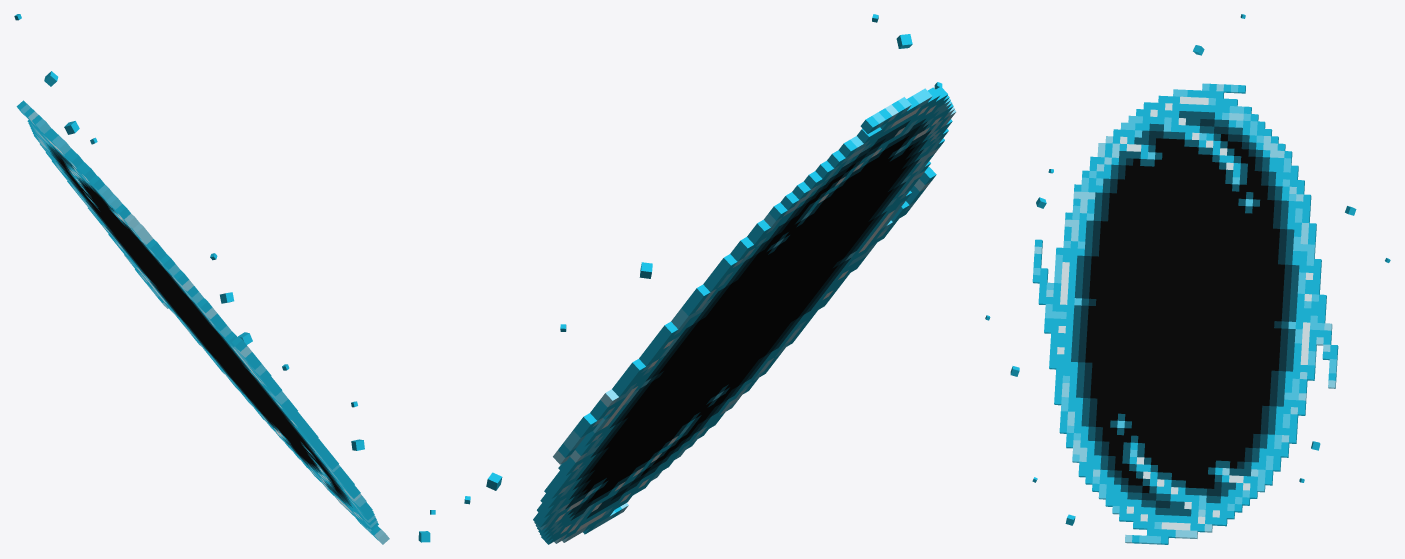
File: portal.fbx
The picture shows the model from 3 angles, left to right: view 1: azimuth 30°, elevation 25°; view 2: azimuth 150°, elevation 25°; view 3: azimuth 270°, elevation 25°; orthographic projection. The views are drawn at different scales.
Parts seen in each view (by area): view 1: Portal_FInal.obj; view 2: Portal_FInal.obj; view 3: Portal_FInal.obj.
Part boxes in pixels (x1,y1,x2,y2): Portal_FInal.obj: (14,14,435,544); Portal_FInal.obj: (464,14,956,544); Portal_FInal.obj: (985,14,1390,544).
Bounding box in the file's own units: 388 × 644 × 563.
